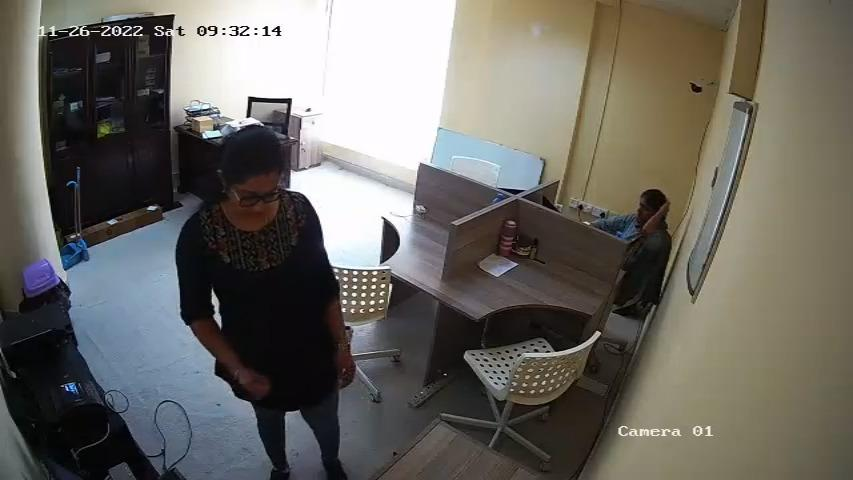no_apron: (227, 219, 319, 352)
